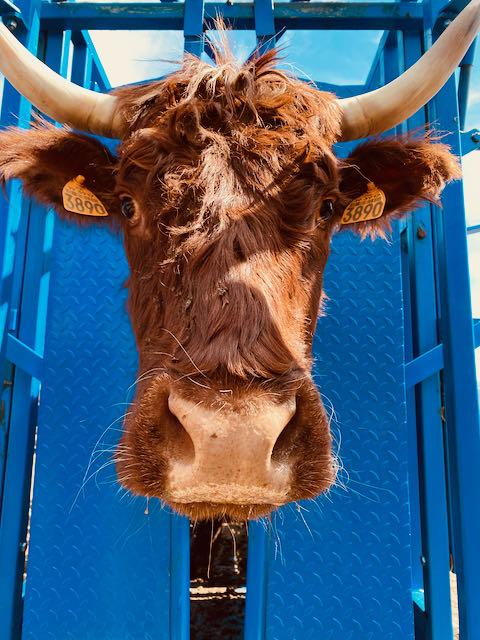muzzles: (98, 368, 353, 528)
